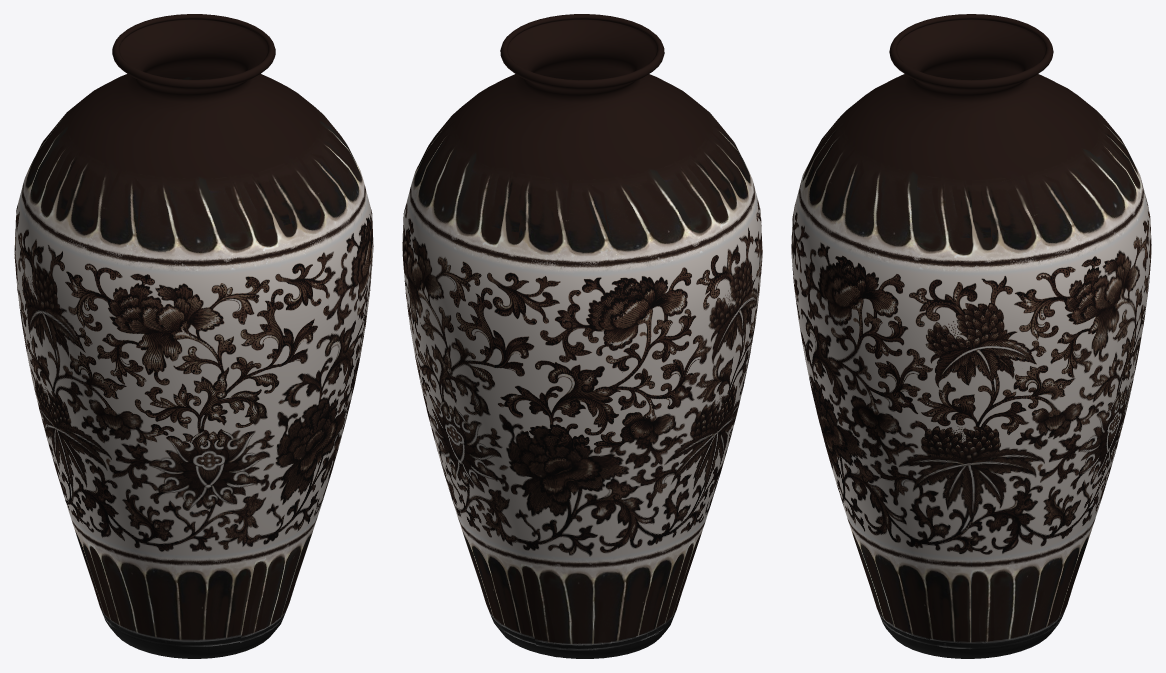
The model's file is black_vase.glb.
3 views of the same model, side by side, from view 1: azimuth 30°, elevation 25°; view 2: azimuth 150°, elevation 25°; view 3: azimuth 270°, elevation 25° (orthographic).
Visible parts, largest first — view 1: Cylinder006; view 2: Cylinder006; view 3: Cylinder006.
Part boxes in pixels (x1,y1,x2,y2): Cylinder006: [14, 14, 373, 658]; Cylinder006: [402, 14, 762, 658]; Cylinder006: [791, 14, 1151, 658].
Size of the model in its own units: 0.3075 by 0.5486 by 0.3075.
1 material, 1 textured.
